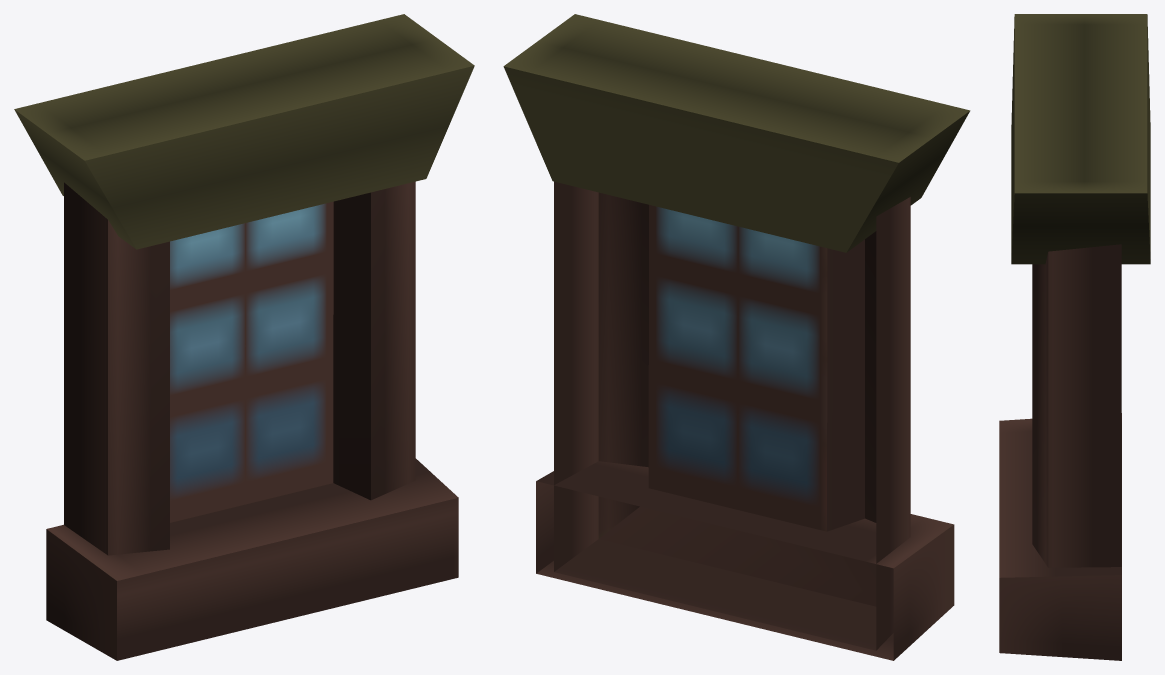
The model's file is window_v1_001.fbx.
The picture shows the model from 3 angles, left to right: view 1: azimuth 30°, elevation 25°; view 2: azimuth 150°, elevation 25°; view 3: azimuth 270°, elevation 25°; orthographic projection. The views are drawn at different scales.
Parts seen in each view (by area): view 1: window_v1_001; view 2: window_v1_001; view 3: window_v1_001.
Part boxes in pixels (x1=…): window_v1_001: x1=14, y1=14, x2=474, y2=660; window_v1_001: x1=503, y1=14, x2=970, y2=660; window_v1_001: x1=999, y1=14, x2=1150, y2=660.
Bounding box in the file's own units: 106 × 131 × 37.88.
